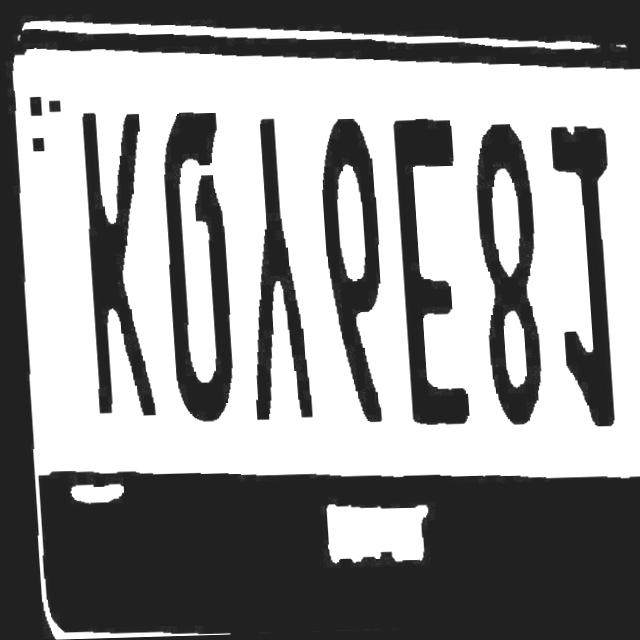1: (547, 122, 625, 432)
6: (306, 113, 386, 431)
8: (467, 121, 543, 435)
e: (381, 108, 476, 438)
k: (65, 105, 159, 429)
q: (154, 109, 235, 423)
y: (230, 113, 315, 431)
